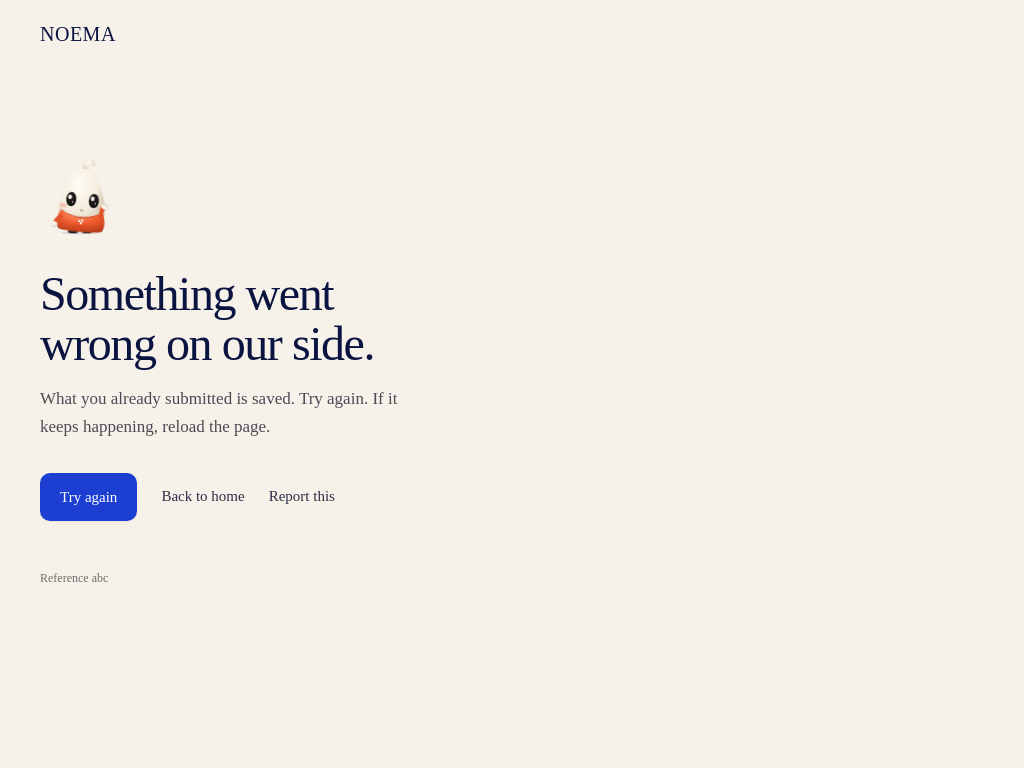
it: ErrorBoundary › offers to report it, as a bug, with the reference already written
Click the button "Report this": (302, 497) [269,485,335,509]
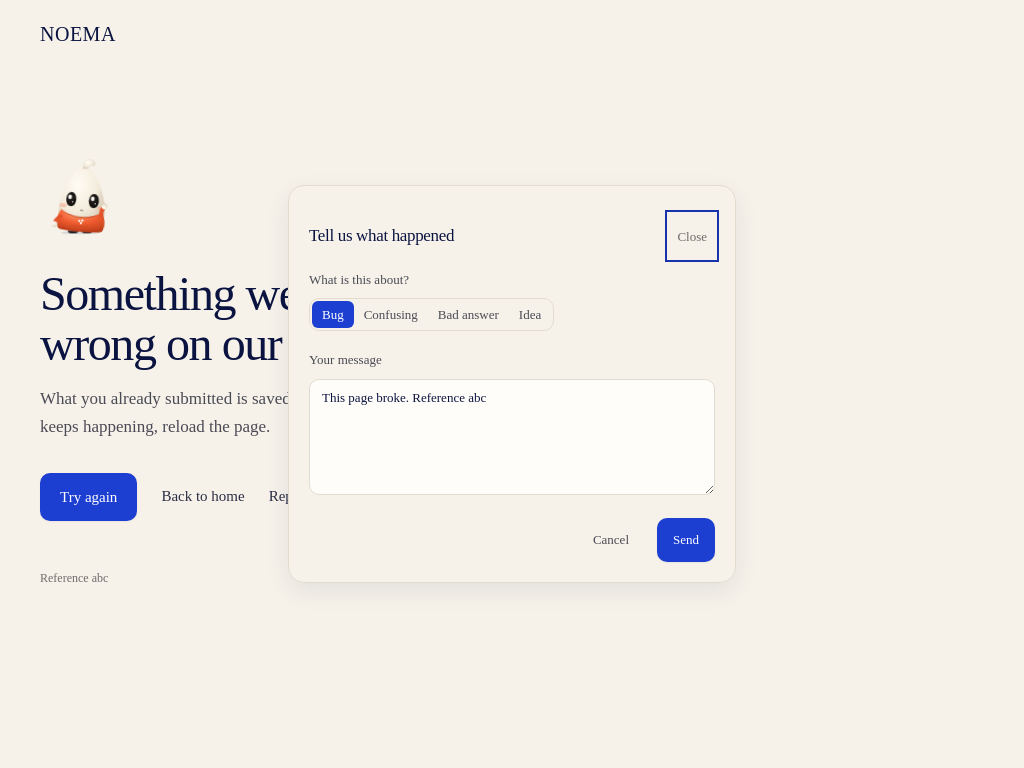
Now the dialog "Tell us what happened" is shown, box [288,185,736,583]
